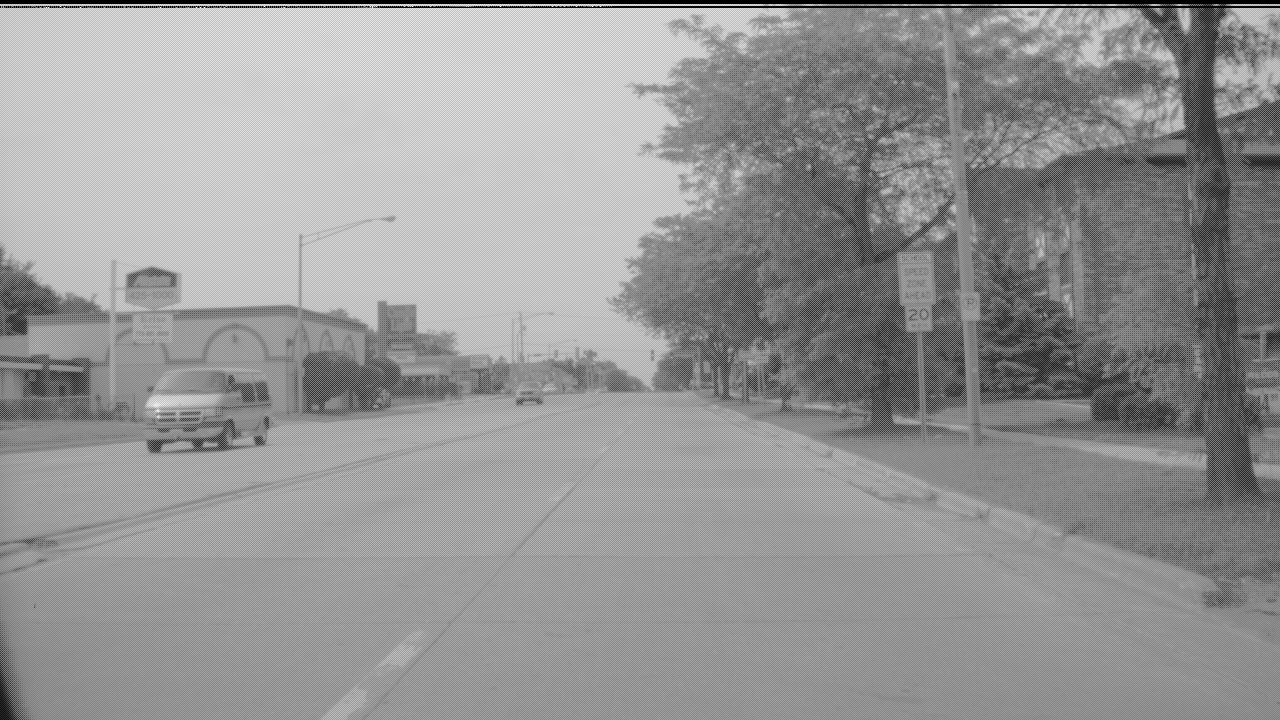pole: (297, 1, 339, 436), (977, 227, 985, 405), (1163, 252, 1171, 406)
